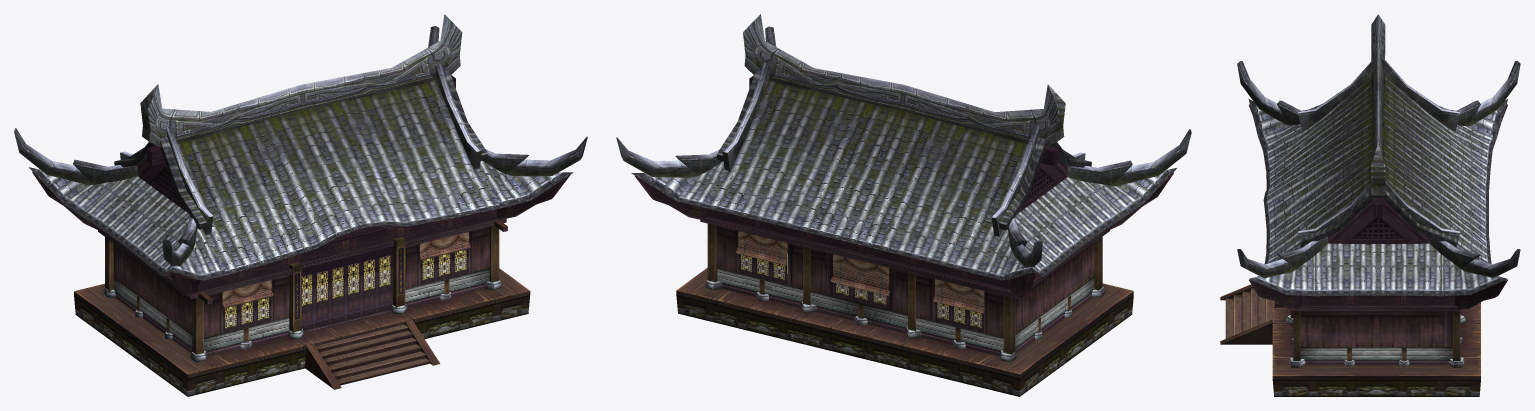
The model's file is xcz_jz_03_LOD1.FBX.
The picture shows the model from 3 angles, left to right: view 1: azimuth 30°, elevation 25°; view 2: azimuth 150°, elevation 25°; view 3: azimuth 270°, elevation 25°; orthographic projection. The views are drawn at different scales.
Parts seen in each view (by area): view 1: xcz_jz_03_LOD1; view 2: xcz_jz_03_LOD1; view 3: xcz_jz_03_LOD1.
Boxes of the visible parts, x1,y1,x2,y2 form: xcz_jz_03_LOD1: [14, 14, 587, 396]; xcz_jz_03_LOD1: [616, 14, 1191, 396]; xcz_jz_03_LOD1: [1220, 14, 1520, 396].
Bounding box in the file's own units: 2265 × 1348 × 1511.
